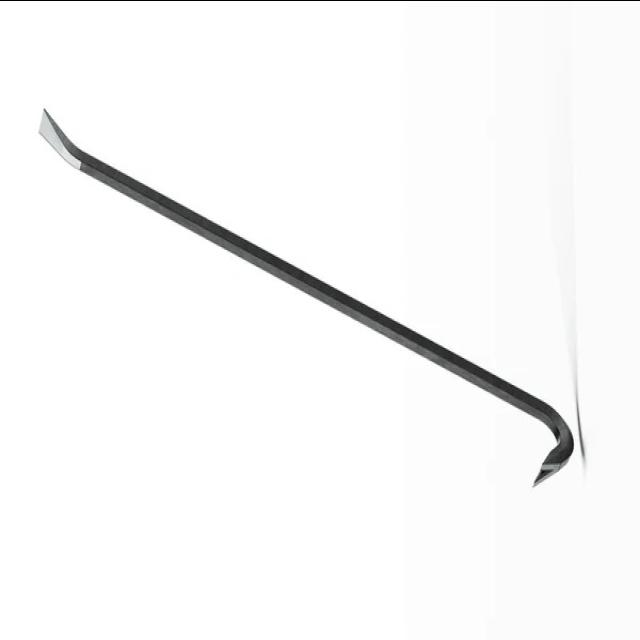Linggis: (39, 109, 574, 493)
